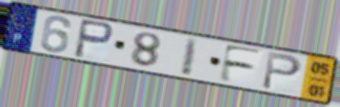6: (39, 15, 73, 54)
8: (129, 31, 163, 69)
F: (216, 43, 266, 85)
I: (179, 36, 202, 78)
P: (72, 17, 115, 61), (260, 50, 304, 92)
